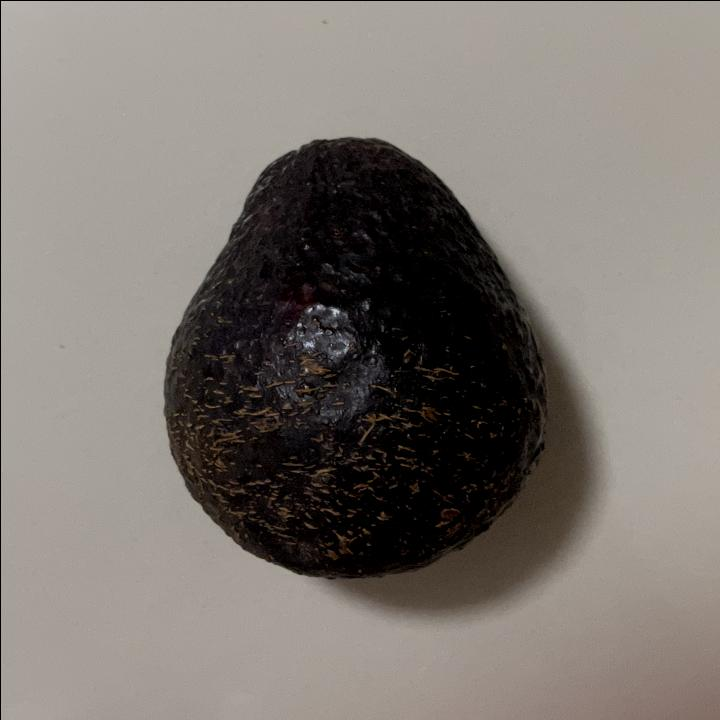Level3: (149, 131, 558, 586)
